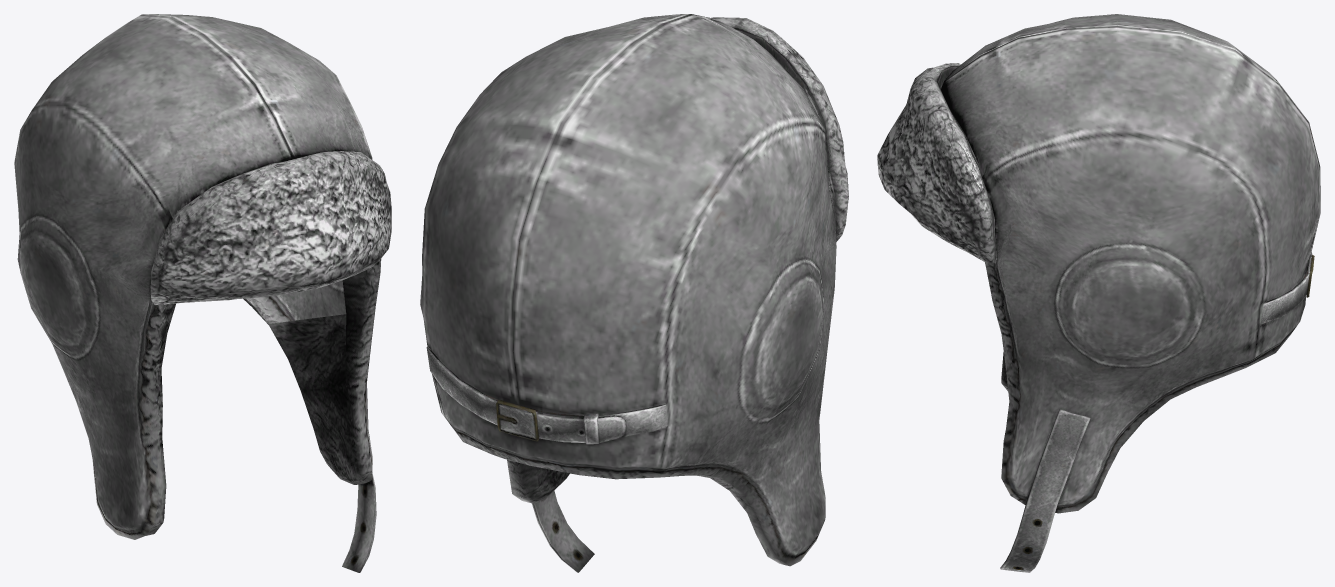
File: SurvivorMale_Head_Hat_Aviator_LOD0.glb
The picture shows the model from 3 angles, left to right: view 1: azimuth 30°, elevation 25°; view 2: azimuth 150°, elevation 25°; view 3: azimuth 270°, elevation 25°; orthographic projection. The views are drawn at different scales.
Parts seen in each view (by area): view 1: Hoodie; view 2: Hoodie; view 3: Hoodie.
Boxes of the visible parts, <box> form: Hoodie: <box>14,14,391,572</box>; Hoodie: <box>420,14,848,572</box>; Hoodie: <box>877,14,1320,572</box>.
Bounding box in the file's own units: 0.1991 × 0.3239 × 0.2595.
1 material, 1 textured.
